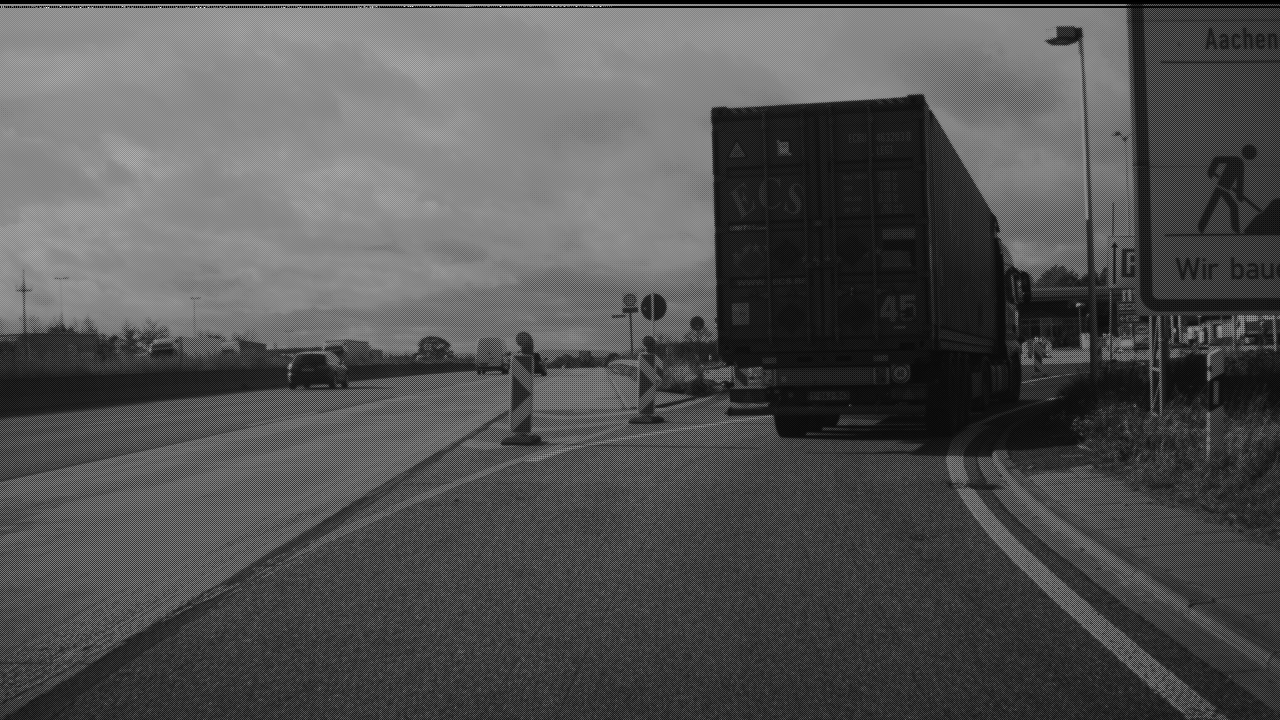pole: (1077, 33, 1098, 370)
